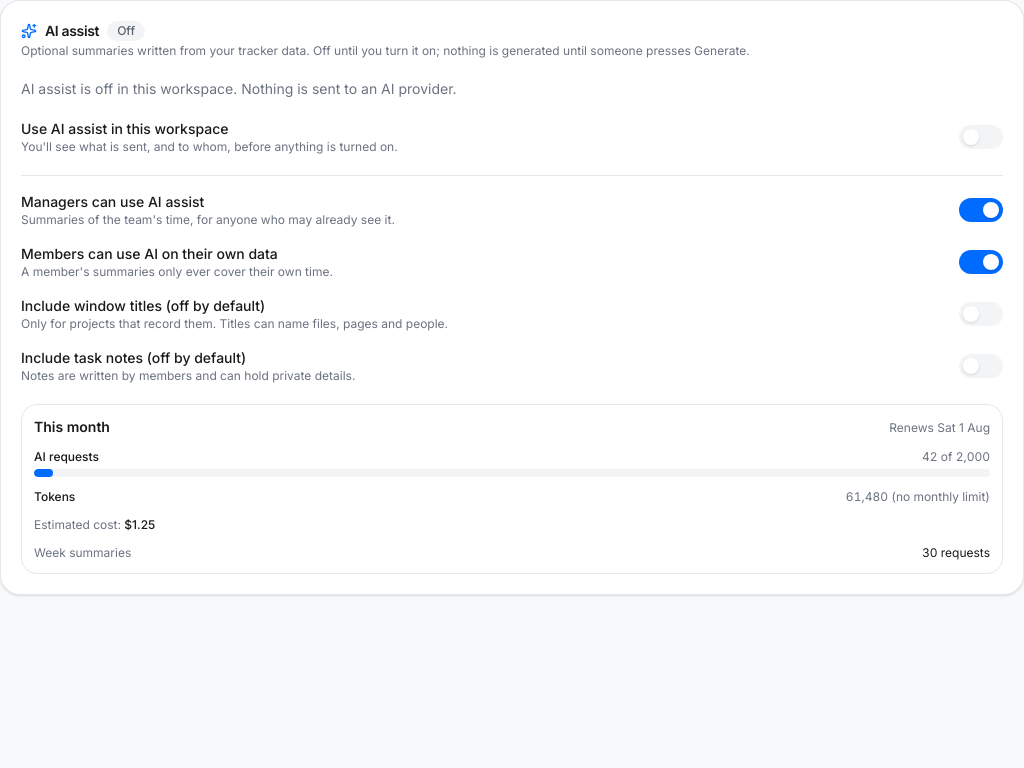
it: turning AI assist on › shows the server's disclosure, keeps Enable off until acknowledged, and sends the version read
Click the switch named "Use AI assist in this workspace" in the row of "Use AI assist in this workspace".
click(981, 137)  # box top-left (959, 125), bottom-right (1003, 149)
(page scrolled)
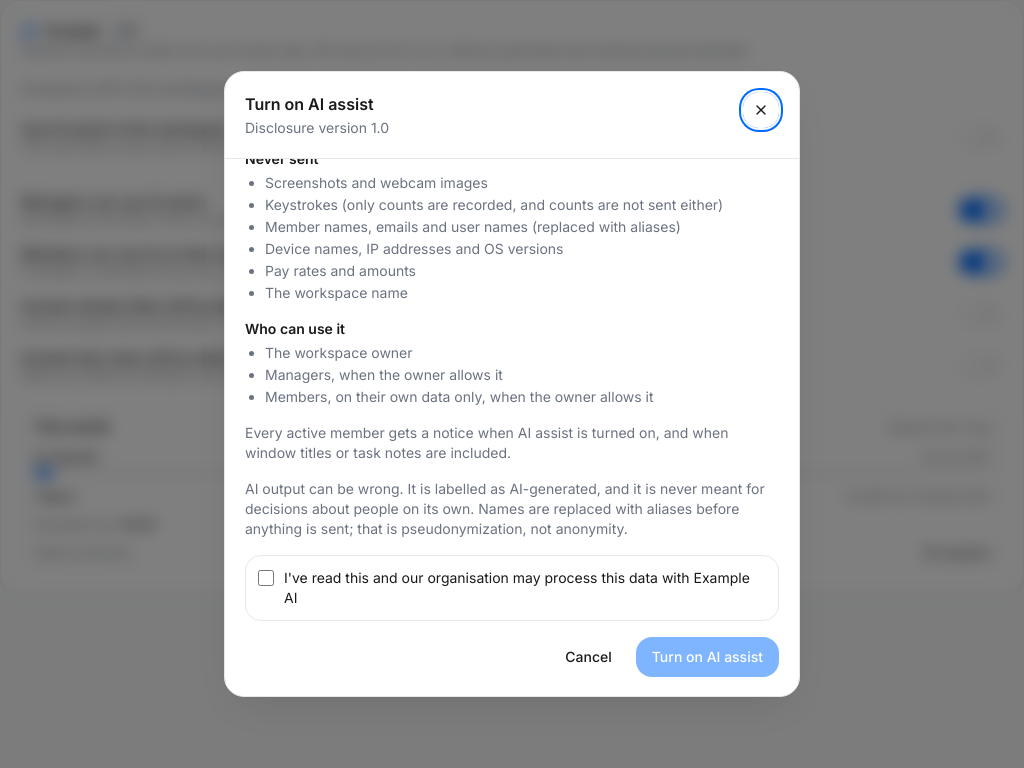
expect the heading "Who can use it" is shown: met, box top-left (245, 320), bottom-right (345, 337)
expect the list item "Screenshots and webcam images" is shown: met, box top-left (265, 174), bottom-right (488, 191)
expect the text "Every active member gets a notice" is shown: met, box top-left (245, 424), bottom-right (728, 461)
Click the button "Turn on AI assist".
click(707, 657)  # box top-left (636, 637), bottom-right (779, 677)
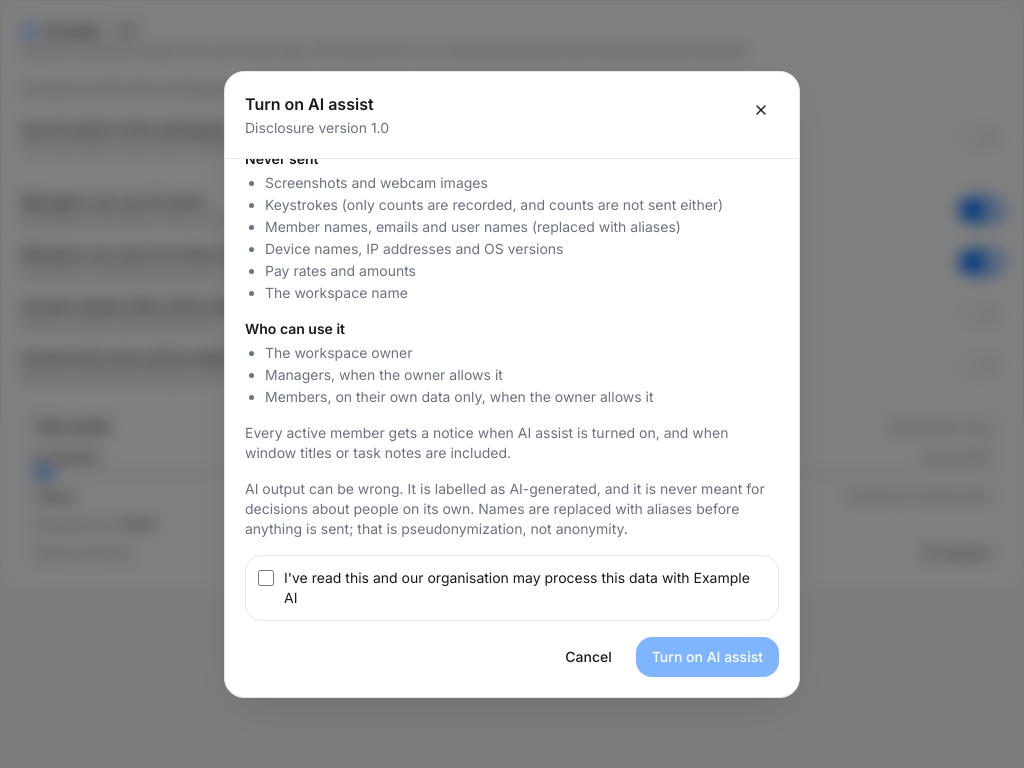
Click the checkbox labelled "I've read this and our organisation may process this data with Example AI".
click(266, 578)  # box top-left (258, 570), bottom-right (274, 586)
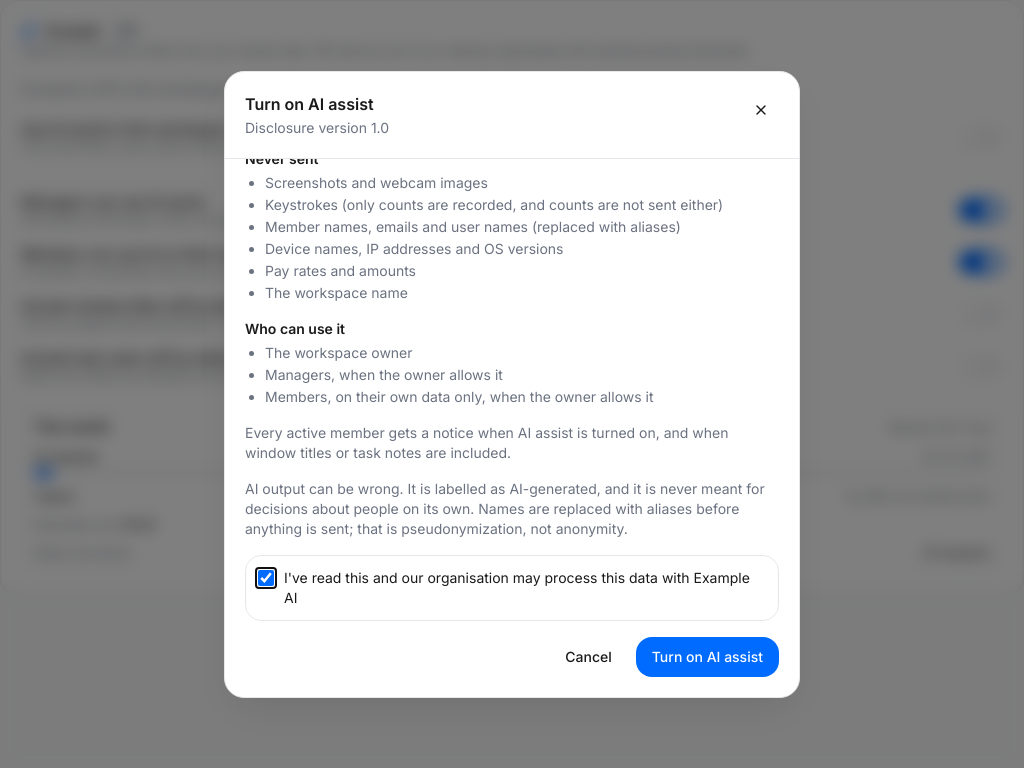
expect the button "Turn on AI assist" is enabled: met
Click the button "Turn on AI assist".
click(707, 657)  # box top-left (636, 637), bottom-right (779, 677)
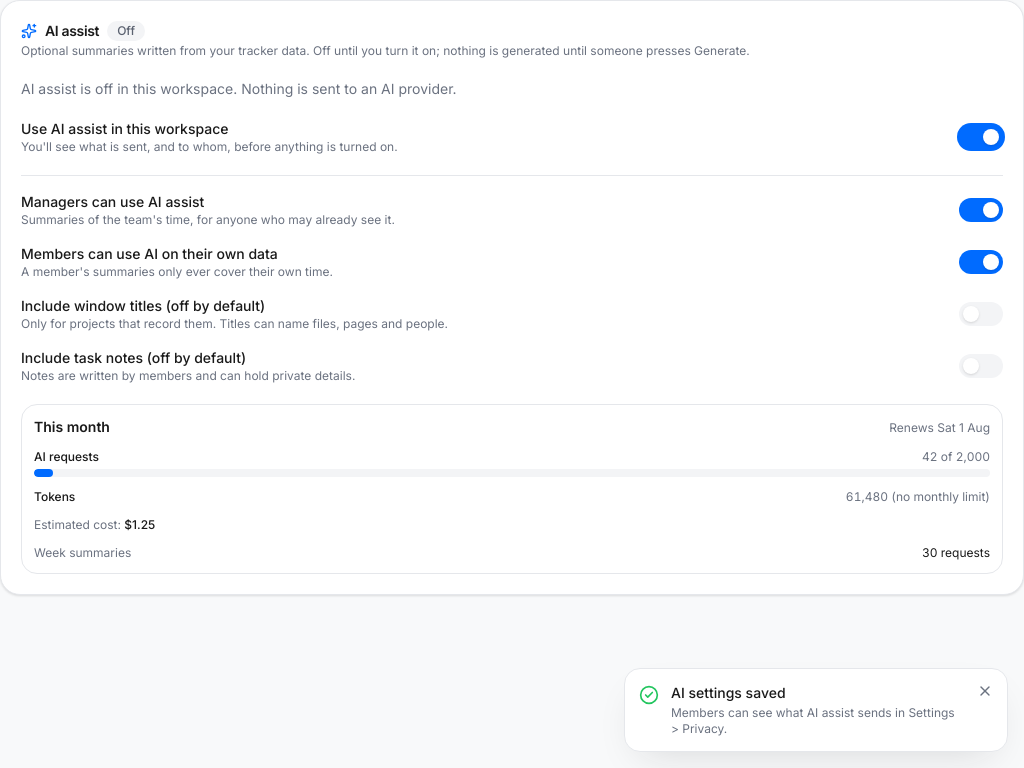
expect the dialog is gone: met
expect the text "AI settings saved" is shown: met, box top-left (671, 684), bottom-right (786, 701)
